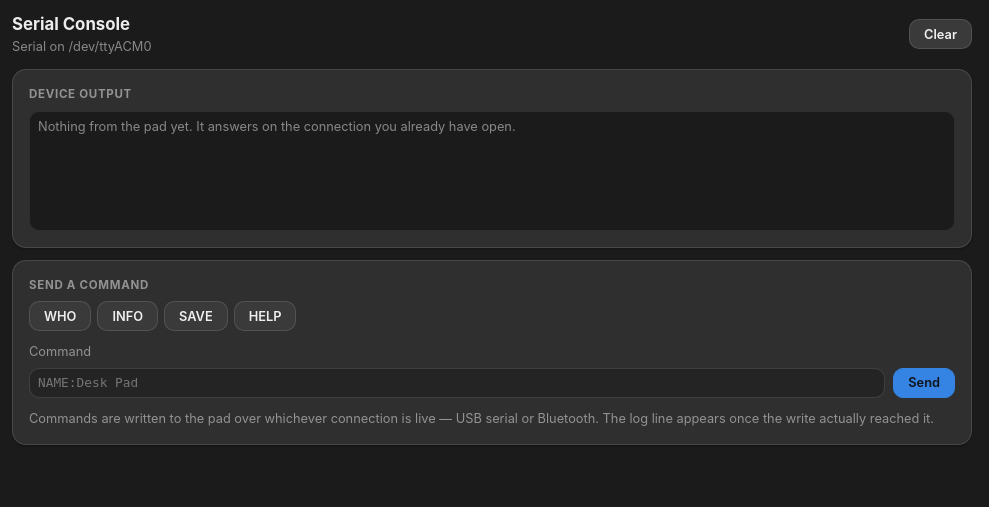
command input › reports an IPC rejection as a failure and keeps the text
Type "HELP" into the field with test id "console-input" at x=457, y=383, box [29,368,885,398]
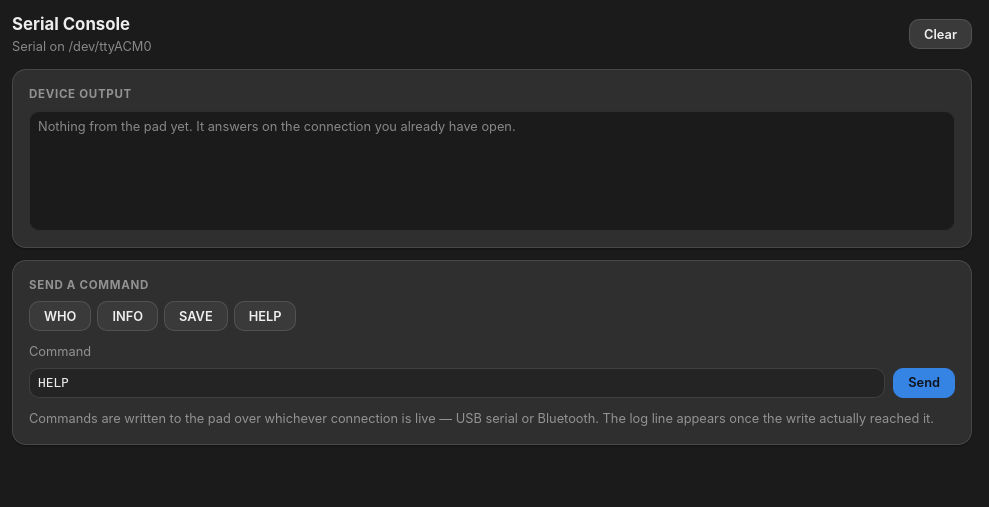
Click the button with test id "console-send" at x=924, y=383, box [893,368,955,398]
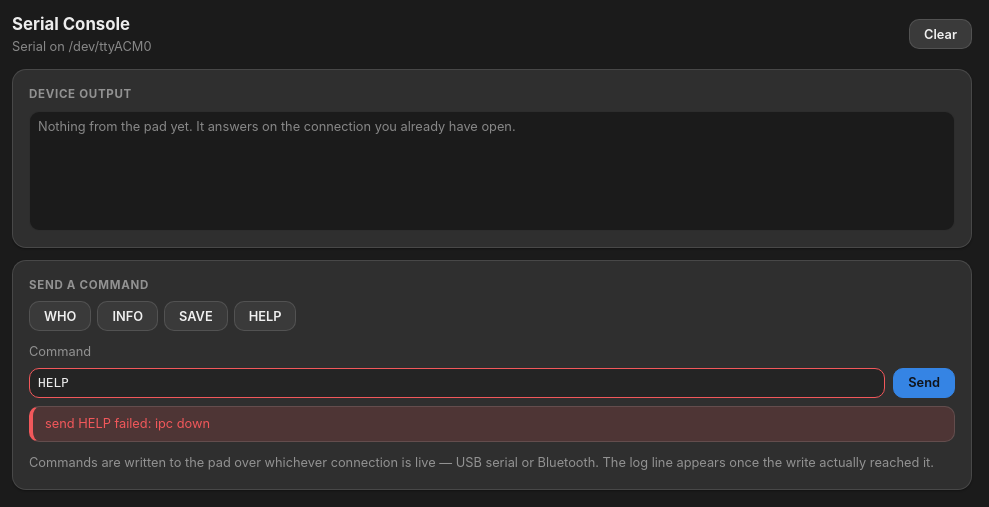
Now the message with test id "console-error" shows "ipc down", box [45,416,210,431]
